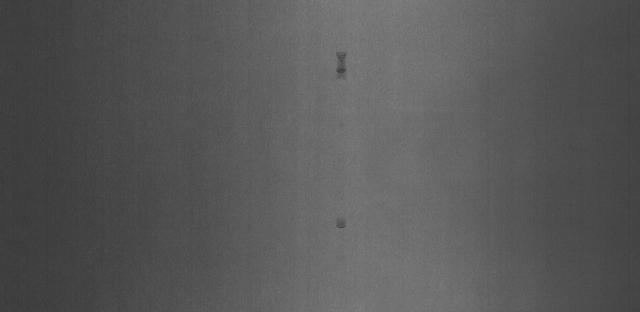oil_spot: (326, 46, 361, 87), (329, 208, 356, 242)
